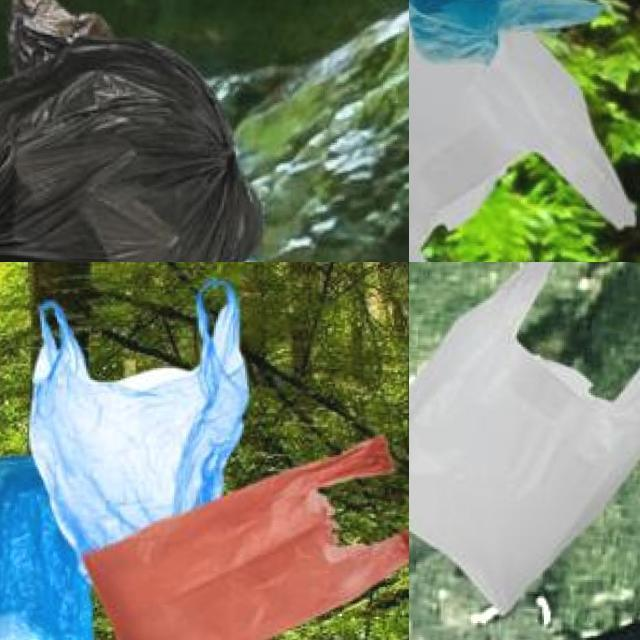waste: (409, 262, 640, 611), (0, 0, 269, 262), (79, 435, 409, 640), (17, 273, 264, 535), (409, 0, 640, 262), (0, 41, 260, 262), (0, 446, 99, 640)
